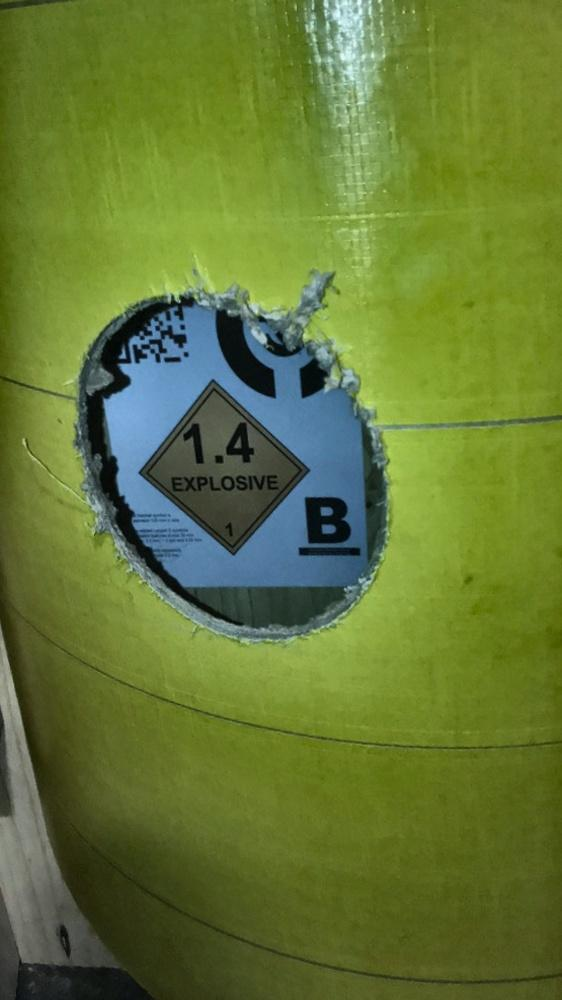explosive: (138, 370, 311, 568)
